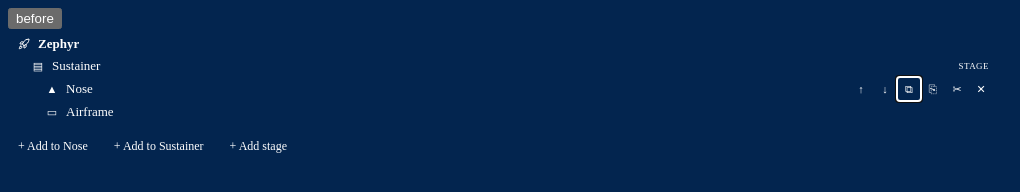
it: structural actions keep the keyboard in the tree › Duplicate lands on the new copy's row
Click the button "⧉": (909,89) [897,77,921,101]
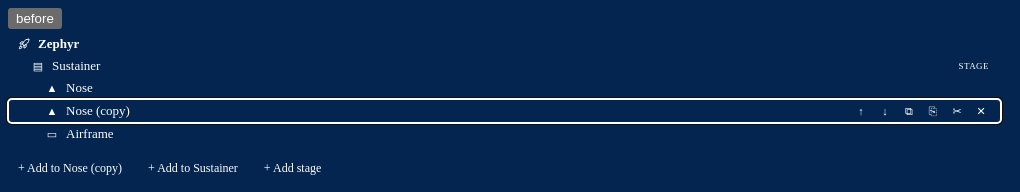
Result: the text with class "tree-label" shows "Nose" at [66,103,130,118]
